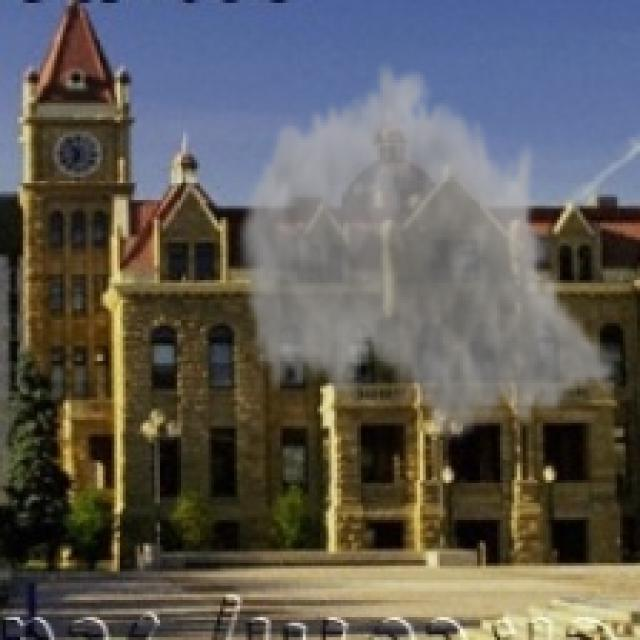Smoke: (235, 54, 620, 452)
